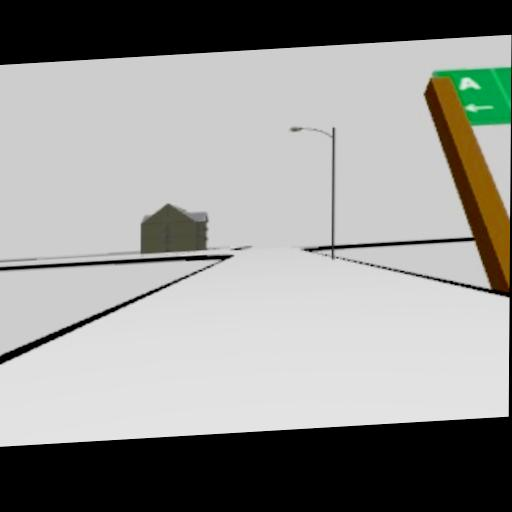A: (458, 75, 481, 91)
Left: (463, 100, 495, 113)
